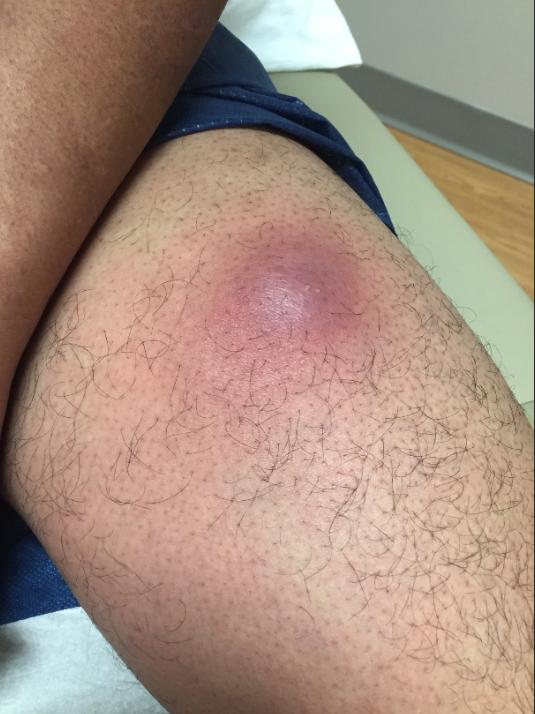Spider: (229, 243, 361, 354)
